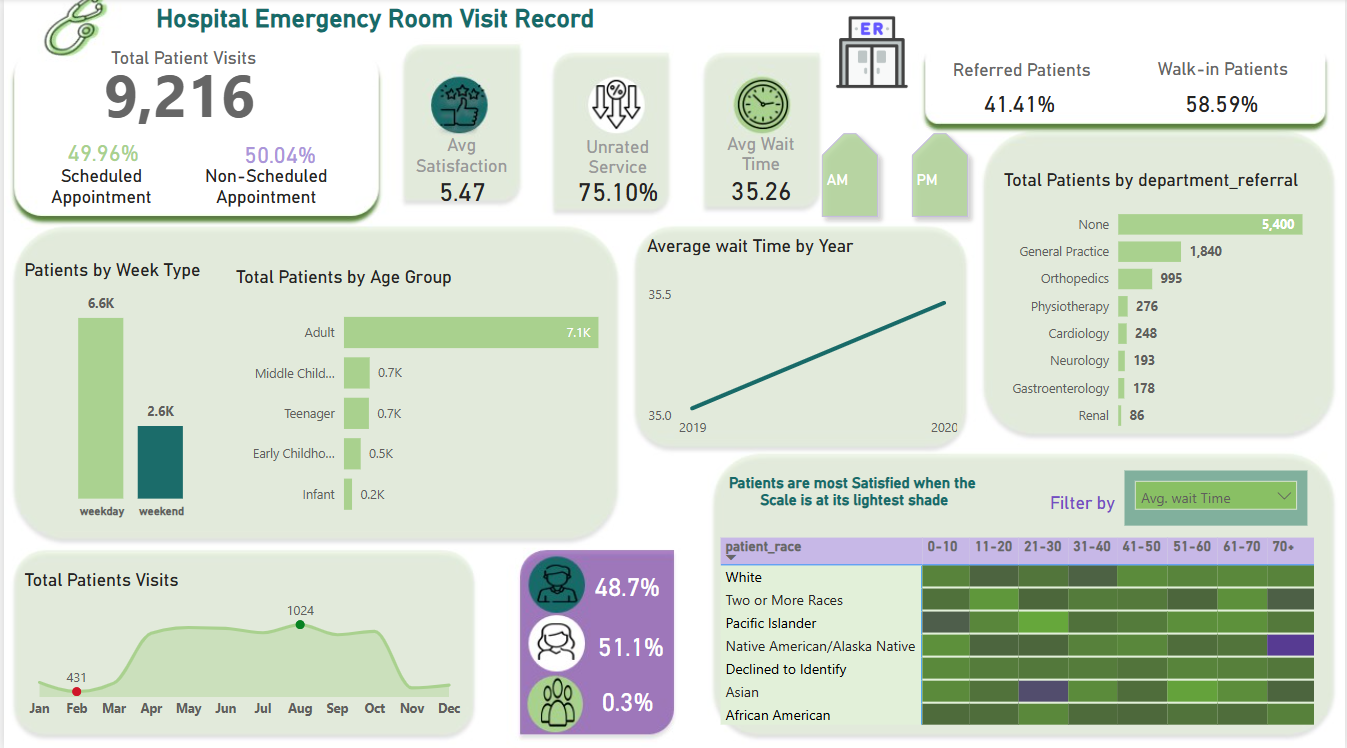

Layout of this report page (visuals, bound fields, positions):
{"tool":"powerbi","page":{"name":"Page 1","canvas":[1280,720],"ordinal":0},"visuals":[{"type":"card","fields":{"Values":["Calculations.Total Patients"]},"box":[57.3,50.9,219.5,76.3],"z":0},{"type":"card","fields":{"Values":["Calculations.% None - Administrative Schedule"]},"box":[31.8,120.9,125.7,54.1],"z":1000},{"type":"pivotTable","fields":{"Values":["Calculations.Average wait Time"],"Rows":["Patients Clinical Dataset.patient_race"],"Columns":["Patients Clinical Dataset.Age Brackets"]},"box":[679.4,510,581.9,195],"z":2000},{"type":"slicer","fields":{"Values":["Parameter.Parameter"]},"box":[1070.5,451.7,175,52.5],"z":3000},{"type":"clusteredBarChart","fields":{"Category":["Patients Clinical Dataset.department_referral"],"Y":["Calculations.Total Patients"]},"box":[949.6,163.8,330.8,260.9],"z":4000},{"type":"areaChart","title":"Total Patients Visits","fields":{"Category":["Date.Month"],"Y":["Calculations.Total Patients","Calculations.Value Max Point (Month)"]},"box":[14,545.9,429.6,150.4],"z":5000},{"type":"lineChart","title":"Total Patients Visits By Year","fields":{"Category":["Date.Month"],"Y":["Calculations.Total Patients","Calculations.Value Max Point (Month)"]},"box":[597.9,238.2,316.5,177.5],"z":6000},{"type":"card","fields":{"Values":["Calculations.% Referred Patients"]},"box":[914.6,79.5,108.2,41.4],"z":7000},{"type":"card","fields":{"Values":["Calculations.% Self-Referred Patients"]},"box":[1105.5,79.5,112.9,41.4],"z":8000},{"type":"card","fields":{"Values":["Calculations.Hit Map Caption"]},"box":[672.8,424.7,276.8,95.4],"z":9000},{"type":"textbox","box":[30.2,154.3,125.7,50.9],"z":10000},{"type":"textbox","box":[175,154.3,151.1,50.9],"z":11000},{"type":"card","title":"Avg Satisfaction","fields":{"Values":["Calculations.Average Satisfaction Score"]},"box":[368.6,132.3,135.5,67.7],"z":12000},{"type":"card","title":"Unrated Service","fields":{"Values":["Calculations.% No Rating"]},"box":[534.4,132,103.4,66.8],"z":13000},{"type":"card","title":"Avg Wait Time","fields":{"Values":["Calculations.Average wait Time"]},"box":[679.2,130.4,84.3,66.8],"z":14000},{"type":"textbox","box":[915.1,33.1,155.9,37.8],"z":15000},{"type":"textbox","box":[1091.4,40.5,144.1,55.1],"z":16000},{"type":"clusteredColumnChart","title":"Patients by Week Type","fields":{"Y":["Calculations.Total Patients"],"Category":["Date.Weektype"]},"box":[14.3,249.7,214.7,254.5],"z":17000},{"type":"advancedSlicerVisual","fields":{"Values":["Patients Clinical Dataset.Time_Shift"]},"box":[763.5,111.7,260.7,114.6],"z":18000},{"type":"card","fields":{"Values":["Calculations.% Female Visit"]},"box":[550.4,526.5,89.1,68.4],"z":19000},{"type":"card","fields":{"Values":["Calculations.% Male Visit"]},"box":[550.4,594.9,95.4,49.3],"z":20000},{"type":"card","fields":{"Values":["Calculations.% Unclear"]},"box":[531.3,644.2,127.2,52.5],"z":21000},{"type":"clusteredBarChart","fields":{"Y":["Calculations.Total Patients"],"Category":["Patients Clinical Dataset.Age Group"]},"box":[215.8,255.8,396.5,254.2],"z":22000},{"type":"card","fields":{"Values":["Calculations.% Administrative Schedule"]},"box":[212.6,96.1,113.4,48.8],"z":23000},{"type":"textbox","box":[81.1,41.4,179.7,49.3],"z":24000},{"type":"textbox","box":[967.2,466.8,126.3,51.2],"z":25000},{"type":"textbox","box":[121.5,0,465.2,40],"z":26000},{"type":"image","box":[787.3,0,81.9,102.8],"z":27000}]}

Visuals, with their boxes in screenshot pixels (x1, y1, x2, y2), scaled from the page's 1280x720 canvas onto the 1347x748 screenshot:
card - Calculations.Total Patients: x1=60 y1=53 x2=291 y2=132
card - Calculations.% None - Administrative Schedule: x1=33 y1=126 x2=166 y2=182
pivotTable - Calculations.Average wait Time x Patients Clinical Dataset.patient_race: x1=715 y1=530 x2=1327 y2=732
slicer - Parameter.Parameter: x1=1127 y1=469 x2=1311 y2=524
clusteredBarChart - Patients Clinical Dataset.department_referral x Calculations.Total Patients: x1=999 y1=170 x2=1346 y2=441
"Total Patients Visits" areaChart: x1=15 y1=567 x2=467 y2=723
"Total Patients Visits By Year" lineChart: x1=629 y1=247 x2=962 y2=432
card - Calculations.% Referred Patients: x1=962 y1=83 x2=1076 y2=126
card - Calculations.% Self-Referred Patients: x1=1163 y1=83 x2=1282 y2=126
card - Calculations.Hit Map Caption: x1=708 y1=441 x2=999 y2=540
textbox: x1=32 y1=160 x2=164 y2=213
textbox: x1=184 y1=160 x2=343 y2=213
"Avg Satisfaction" card: x1=388 y1=137 x2=530 y2=208
"Unrated Service" card: x1=562 y1=137 x2=671 y2=207
"Avg Wait Time" card: x1=715 y1=135 x2=803 y2=205
textbox: x1=963 y1=34 x2=1127 y2=74
textbox: x1=1149 y1=42 x2=1300 y2=99
"Patients by Week Type" clusteredColumnChart: x1=15 y1=259 x2=241 y2=524
advancedSlicerVisual - Patients Clinical Dataset.Time_Shift: x1=803 y1=116 x2=1078 y2=235
card - Calculations.% Female Visit: x1=579 y1=547 x2=673 y2=618
card - Calculations.% Male Visit: x1=579 y1=618 x2=680 y2=669
card - Calculations.% Unclear: x1=559 y1=669 x2=693 y2=724
clusteredBarChart - Calculations.Total Patients x Patients Clinical Dataset.Age Group: x1=227 y1=266 x2=644 y2=530
card - Calculations.% Administrative Schedule: x1=224 y1=100 x2=343 y2=151
textbox: x1=85 y1=43 x2=274 y2=94
textbox: x1=1018 y1=485 x2=1151 y2=538
textbox: x1=128 y1=0 x2=617 y2=42
image: x1=829 y1=0 x2=915 y2=107
